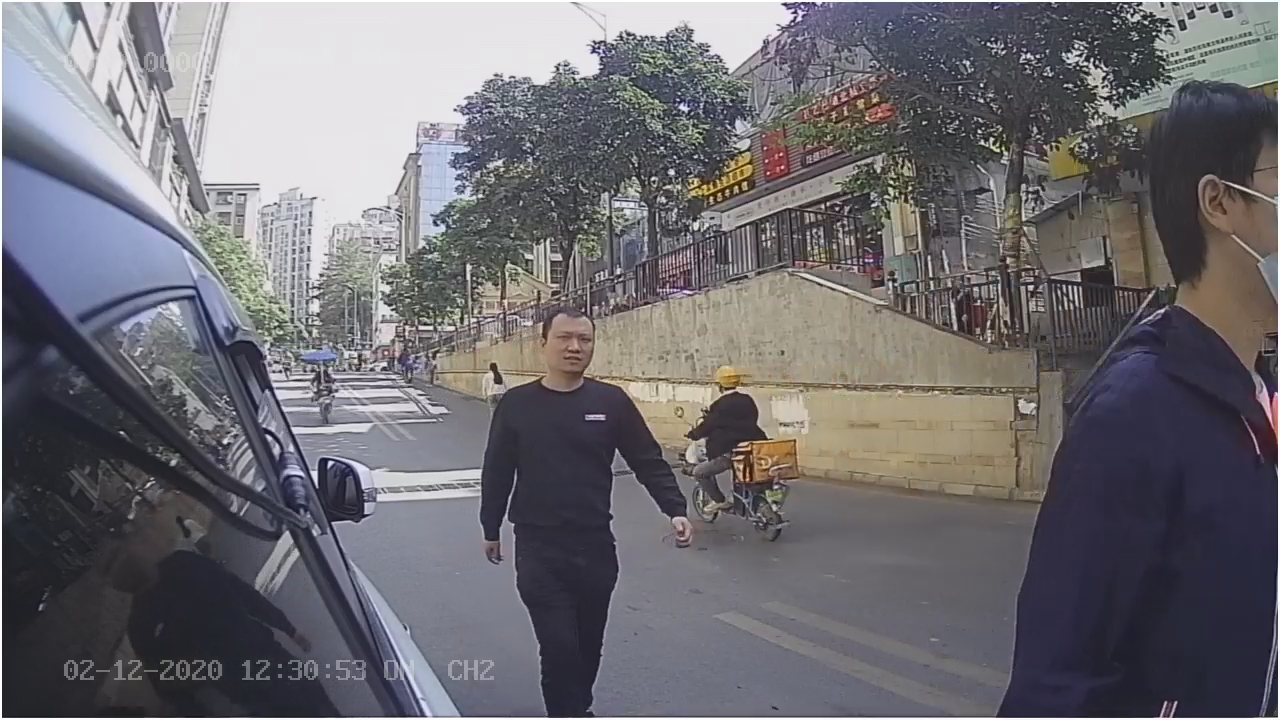person: (471, 302, 694, 572)
